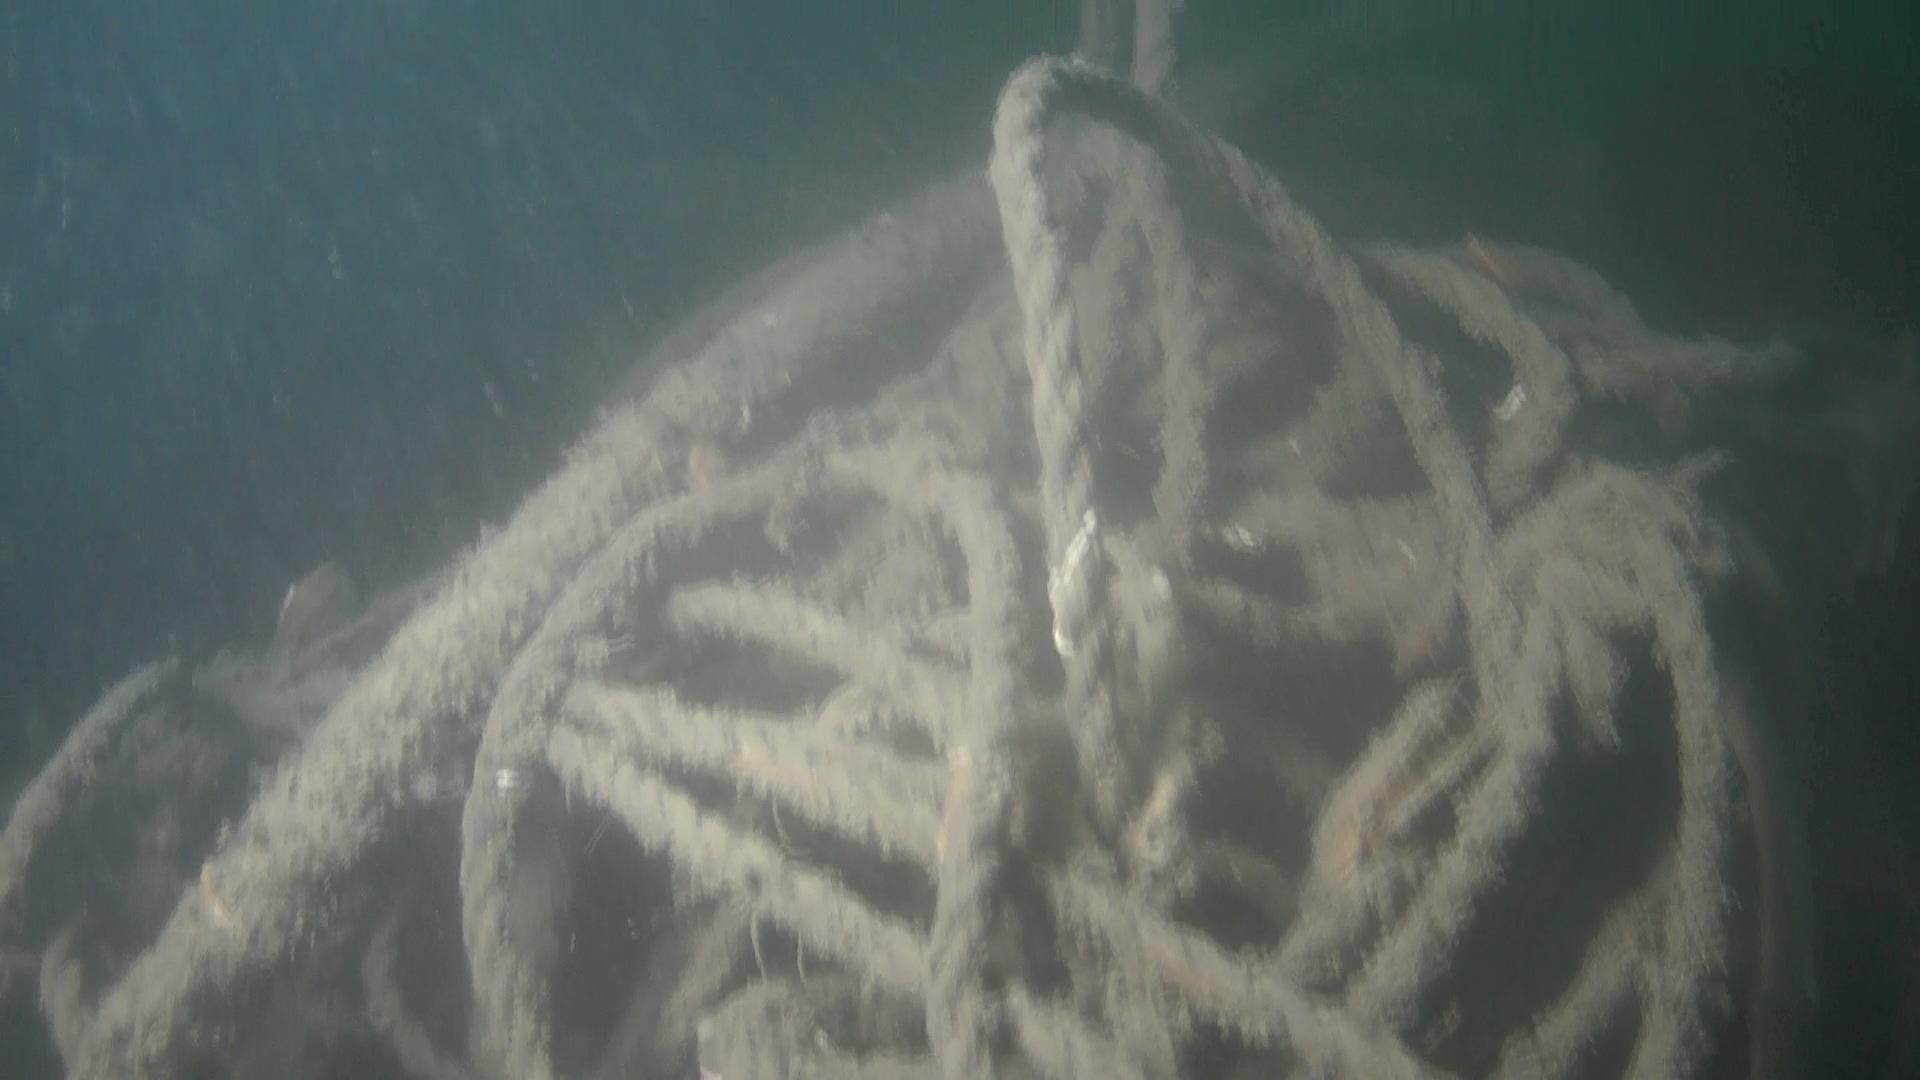bundle of ropes: (458, 51, 1734, 1080)
